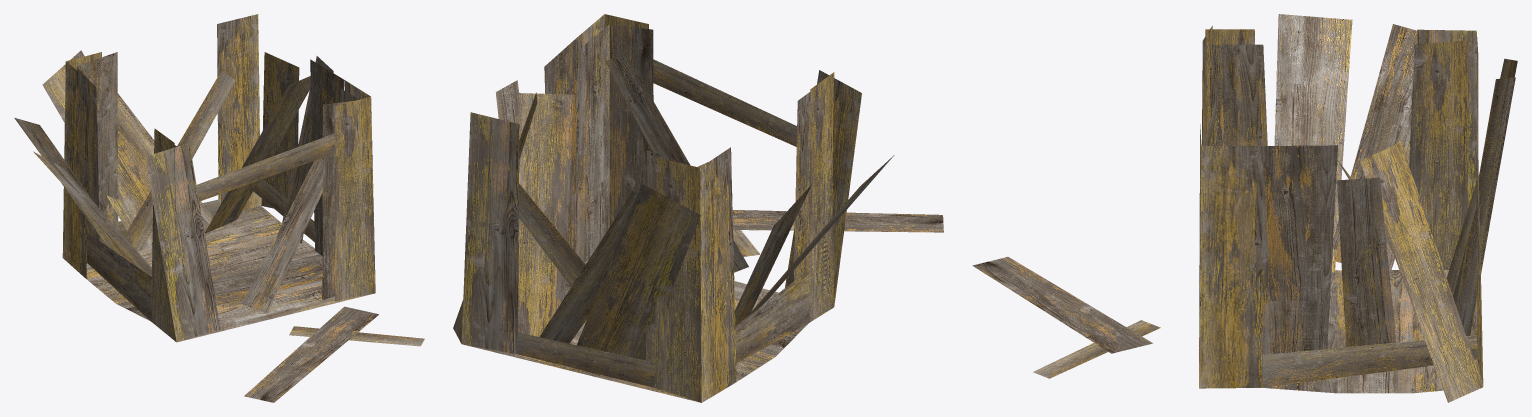
The model's file is Chest5_LOD1.fbx.
3 renders of one model, left to right at view 1: azimuth 30°, elevation 25°; view 2: azimuth 150°, elevation 25°; view 3: azimuth 270°, elevation 25°, orthographic. The views are drawn at different scales.
Parts seen in each view (by area): view 1: pasted__polySurface894; view 2: pasted__polySurface894; view 3: pasted__polySurface894.
Boxes of the visible parts, bbox=[...] form: pasted__polySurface894: bbox=[14, 14, 424, 402]; pasted__polySurface894: bbox=[453, 14, 943, 402]; pasted__polySurface894: bbox=[972, 14, 1517, 402].
Bounding box in the file's own units: 1.6 × 1.01 × 2.04.
